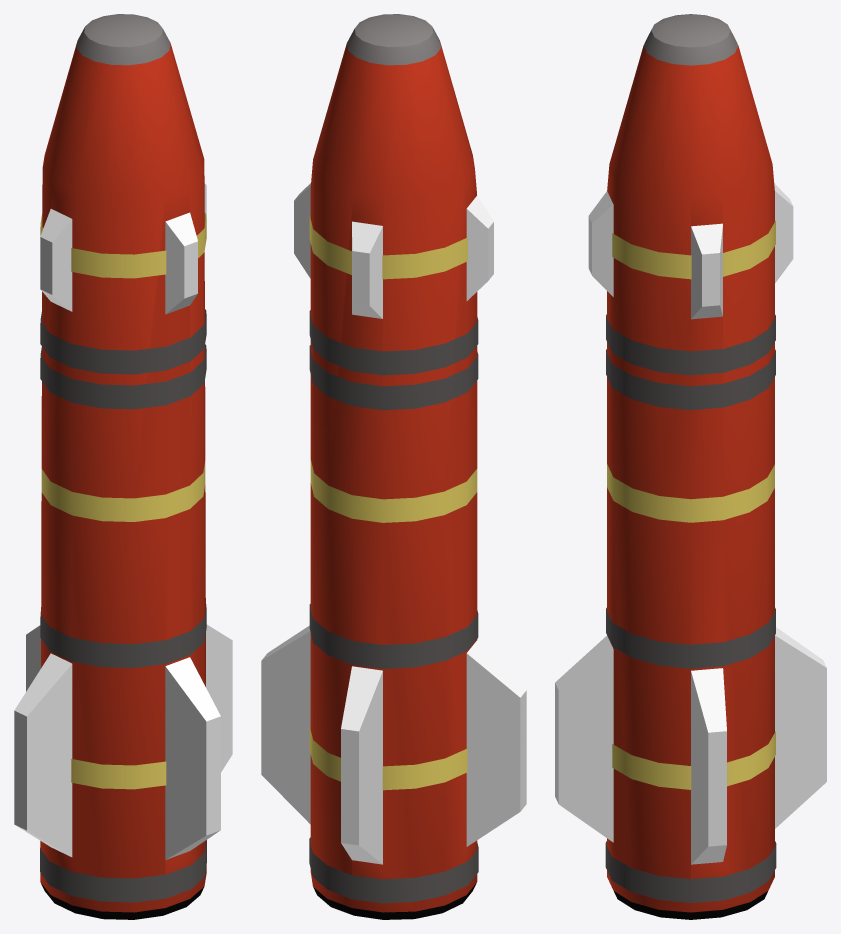
The model's file is Rocket.fbx.
The picture shows the model from 3 angles, left to right: view 1: azimuth 30°, elevation 25°; view 2: azimuth 150°, elevation 25°; view 3: azimuth 270°, elevation 25°; orthographic projection.
Visible parts, largest first — view 1: Cylinder.001; view 2: Cylinder.001; view 3: Cylinder.001.
Boxes of the visible parts, x1,y1,x2,y2 form: Cylinder.001: (14, 14, 232, 919); Cylinder.001: (261, 14, 526, 919); Cylinder.001: (555, 14, 826, 919).
Bounding box in the file's own units: 0.3943 × 1.38 × 0.3943.
